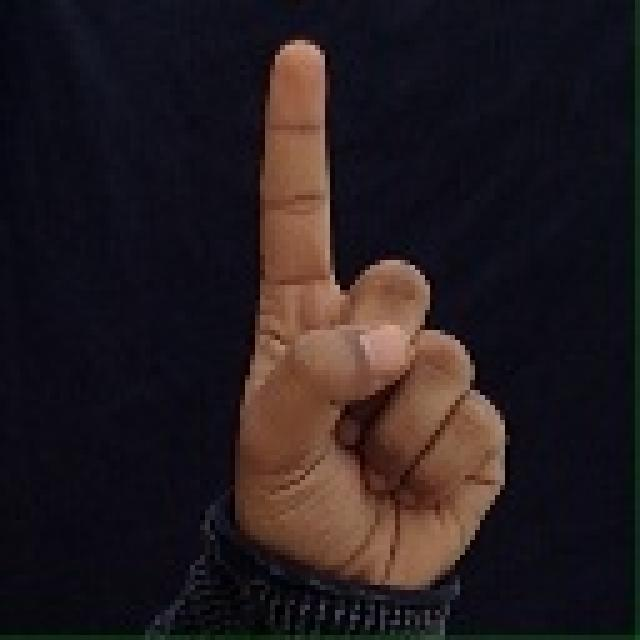Numeric-1: (242, 34, 503, 581)
